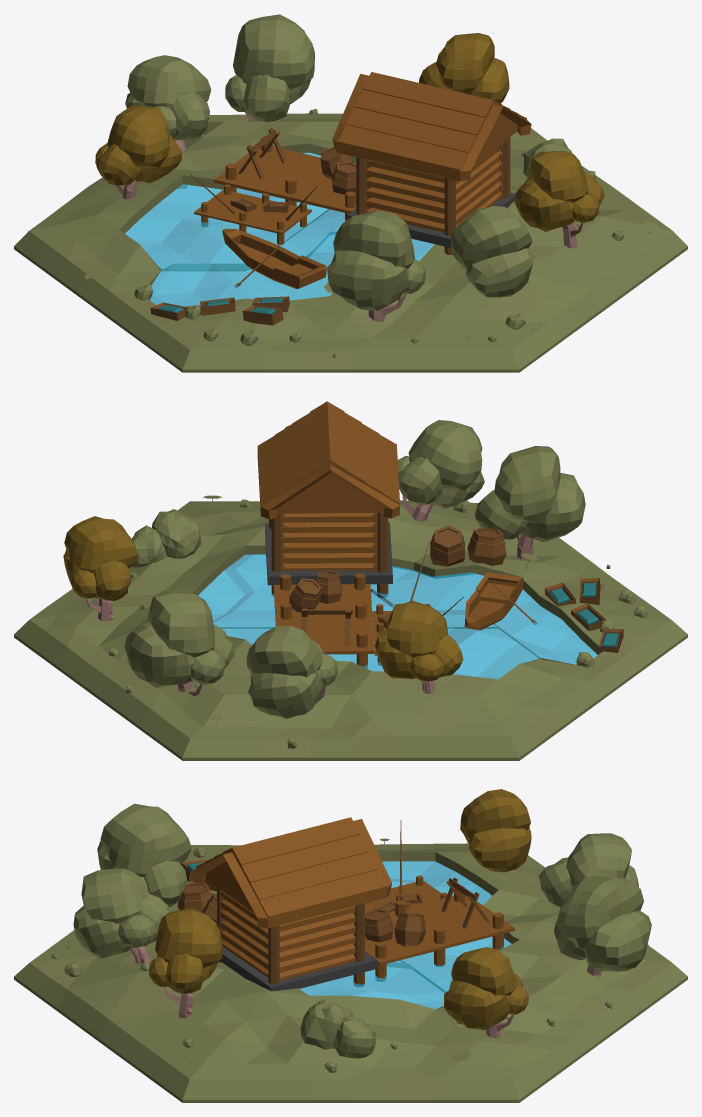
The model's file is fishery.glb.
3 renders of one model, top to bottom at view 1: azimuth 30°, elevation 25°; view 2: azimuth 150°, elevation 25°; view 3: azimuth 270°, elevation 25°, orthographic.
Parts seen in each view (by area): view 1: land, big_details, building, small_details; view 2: land, big_details, building, small_details; view 3: land, big_details, building, small_details.
Boxes of the visible parts, left/top/right/bottom form: land: left=14, top=113, right=687, bottom=372; big_details: left=95, top=14, right=604, bottom=325; building: left=194, top=72, right=531, bottom=288; small_details: left=84, top=109, right=660, bottom=357; land: left=14, top=500, right=687, bottom=760; big_details: left=63, top=420, right=623, bottom=718; building: left=257, top=401, right=523, bottom=668; small_details: left=73, top=495, right=648, bottom=748; land: left=14, top=843, right=687, bottom=1102; big_details: left=73, top=789, right=651, bottom=1058; building: left=192, top=817, right=514, bottom=991; small_details: left=51, top=820, right=648, bottom=1072.
Bounding box in the file's own units: 1.73 × 0.5954 × 2.
